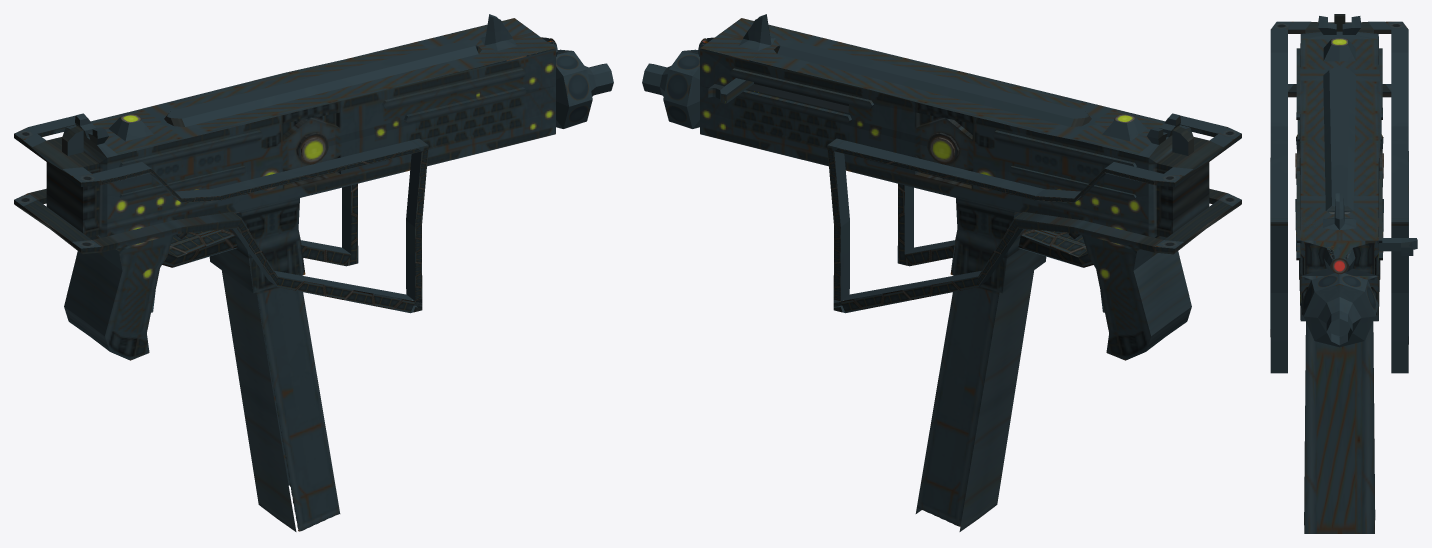
Rendered from SMG 2.fbx.
3 renders of one model, left to right at view 1: azimuth 30°, elevation 25°; view 2: azimuth 150°, elevation 25°; view 3: azimuth 270°, elevation 25°, orthographic. The views are drawn at different scales.
Parts seen in each view (by area): view 1: Cube; view 2: Cube; view 3: Cube.
Part boxes in pixels (x1=…): Cube: x1=14, y1=14, x2=613, y2=531; Cube: x1=642, y1=14, x2=1241, y2=531; Cube: x1=1270, y1=14, x2=1417, y2=533.
Bounding box in the file's own units: 1556 × 1203 × 377.
2 materials, 1 textured.
